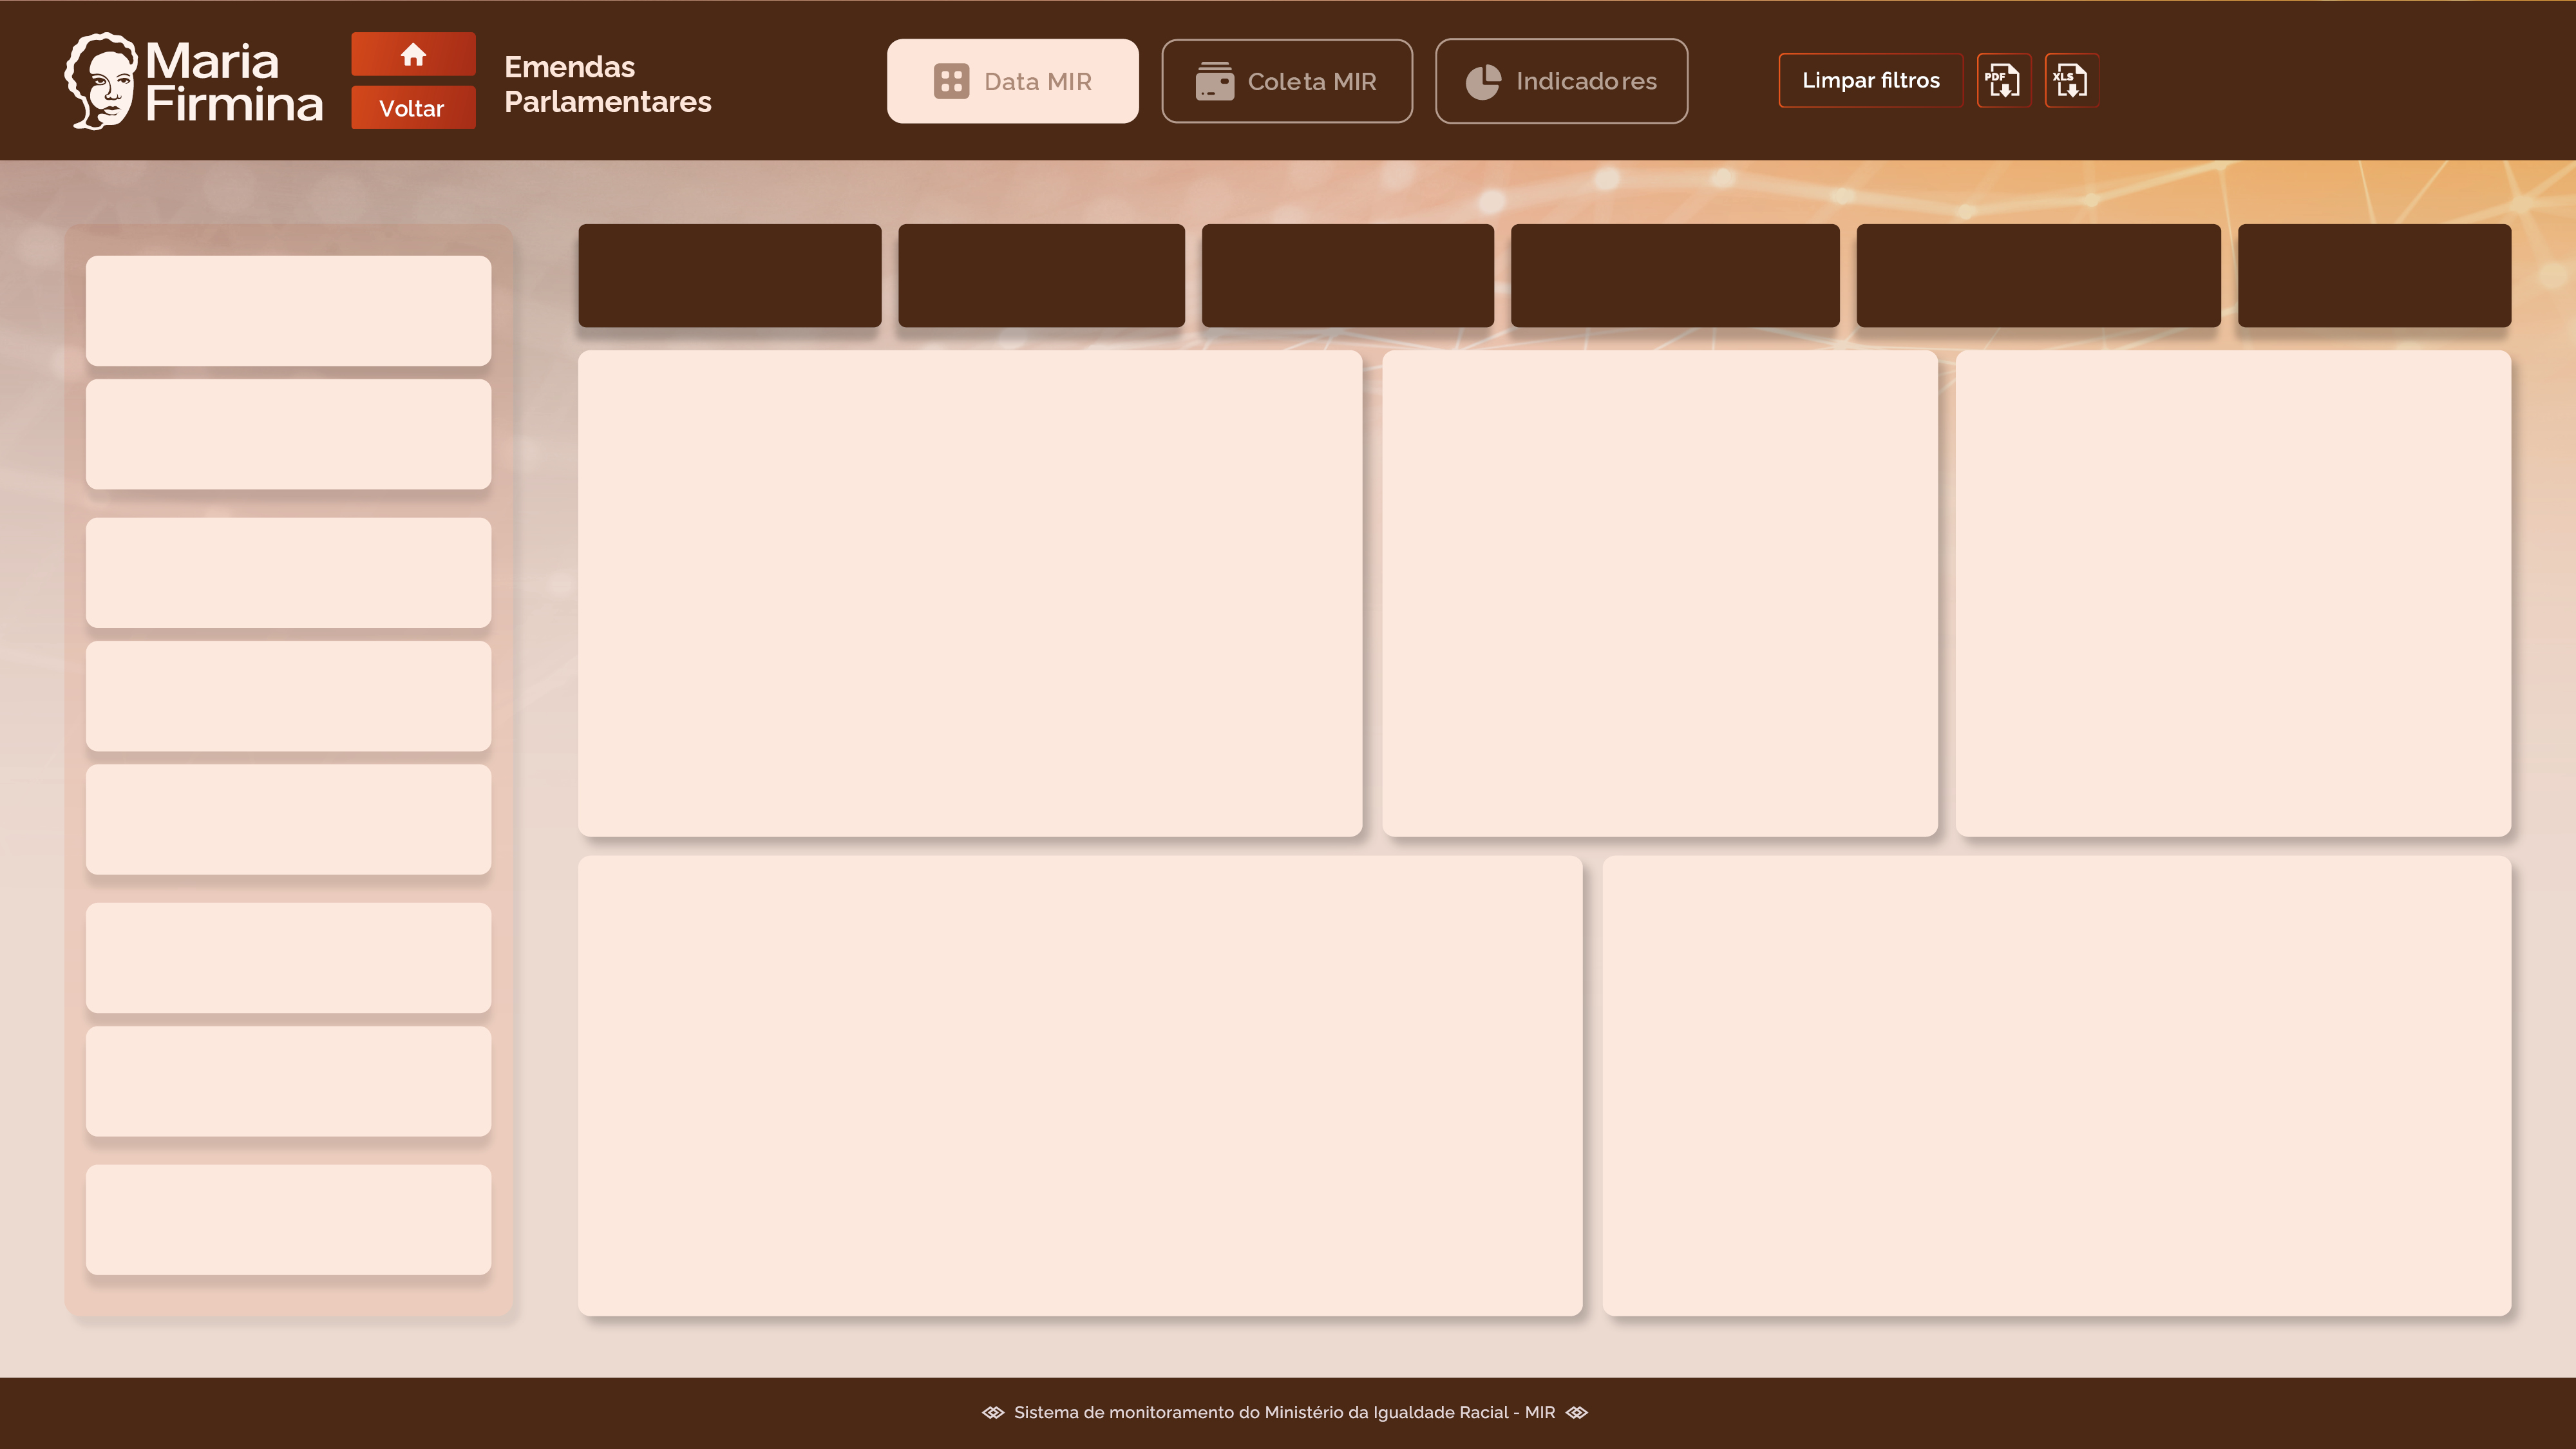

What the dashboard file says about the page in this screenshot:
{"tool":"powerbi","page":{"name":"Emendas Autores","canvas":[1920,1080],"ordinal":9},"visuals":[{"type":"slicer","fields":{"Values":["emendas_convenio (2).sit_convenio"]},"box":[67.8,482.2,423.3,73.3],"z":0},{"type":"slicer","fields":{"Values":["emendas_convenio (2).modalidade"]},"box":[67.8,390,423.3,74.4],"z":1000},{"type":"cardVisual","fields":{"Data":["_medidas.Qtd Convenios"]},"box":[51.1,170,193.3,68.9],"z":2000},{"type":"cardVisual","fields":{"Data":["Sum(emendas_convenio (2).restos_a_pagar_pagos)"]},"box":[1112.2,170,262.2,68.9],"z":3000},{"type":"slicer","fields":{"Values":["emendas_convenio (2).ne_ccor_favorecido_descricao"]},"box":[66.7,298.9,424.4,72.2],"z":5000},{"type":"tableEx","fields":{"Values":["emendas_convenio (2).nr_convenio","emendas_convenio (2).autor","emendas_convenio (2).partido","Sum(emendas_convenio (2).despesas_empenhadas)","emendas_convenio (2).modalidade","emendas_convenio (2).ne_ccor_favorecido_descricao","emendas_convenio (2).regiao_pt","emendas_convenio (2).dia_inic_vigenc_conv","emendas_convenio (2).natureza_despesa_descricao","emendas_convenio (2).sit_convenio","emendas_convenio (2).dia_fim_vigenc_conv","Sum(emendas_convenio (2).despesas_pagas)"]},"box":[664.3,281.4,1208.6,692.9],"z":6000},{"type":"cardVisual","fields":{"Data":["Sum(emendas_convenio (2).despesas_empenhadas)"]},"box":[262.2,170,270,68.9],"z":7000},{"type":"cardVisual","fields":{"Data":["Sum(emendas_convenio (2).despesas_pagas)"]},"box":[827.8,170,265.6,68.9],"z":8000},{"type":"cardVisual","fields":{"Data":["Sum(emendas_convenio (2).despesas_liquidadas)"]},"box":[550,170,265.6,68.9],"z":9000},{"type":"actionButton","box":[261.5,62,94.3,32.9],"z":11000},{"type":"actionButton","box":[261.7,22.8,92.2,33.3],"z":12000},{"type":"textbox","box":[1642.6,29.3,167.6,71.8],"z":13000},{"type":"actionButton","box":[1326.7,40.7,137.8,38.9],"z":14000},{"type":"image","box":[1820,42,53.3,37.8],"z":15000},{"type":"actionButton","box":[661.3,28.7,187.3,62.7],"z":16000},{"type":"actionButton","box":[866,28.7,187.3,62.7],"z":17000},{"type":"actionButton","box":[1069.3,30,187.3,62.7],"z":18000},{"type":"pageNavigator","box":[63.8,129.2,540,23.1],"z":19000},{"type":"pieChart","title":"Empenhado por situação do convênio","fields":{"Category":["emendas_convenio (2).sit_convenio"],"Y":["Sum(emendas_convenio (2).despesas_empenhadas)"]},"box":[48.3,628.3,593.3,346.7],"z":20000}]}

Visuals, with their boxes on the page's 1920x1080 design canvas (x1, y1, x2, y2). These are canvas units, not pixel positions in the 2576x1449 screenshot, which may show the page scaled, cropped or inside an application window:
slicer - emendas_convenio (2).sit_convenio: region(68, 482, 491, 556)
slicer - emendas_convenio (2).modalidade: region(68, 390, 491, 464)
cardVisual - _medidas.Qtd Convenios: region(51, 170, 244, 239)
cardVisual - Sum(emendas_convenio (2).restos_a_pagar_pagos): region(1112, 170, 1374, 239)
slicer - emendas_convenio (2).ne_ccor_favorecido_descricao: region(67, 299, 491, 371)
tableEx - emendas_convenio (2).nr_convenio x emendas_convenio (2).autor: region(664, 281, 1873, 974)
cardVisual - Sum(emendas_convenio (2).despesas_empenhadas): region(262, 170, 532, 239)
cardVisual - Sum(emendas_convenio (2).despesas_pagas): region(828, 170, 1093, 239)
cardVisual - Sum(emendas_convenio (2).despesas_liquidadas): region(550, 170, 816, 239)
actionButton: region(262, 62, 356, 95)
actionButton: region(262, 23, 354, 56)
textbox: region(1643, 29, 1810, 101)
actionButton: region(1327, 41, 1464, 80)
image: region(1820, 42, 1873, 80)
actionButton: region(661, 29, 849, 91)
actionButton: region(866, 29, 1053, 91)
actionButton: region(1069, 30, 1257, 93)
pageNavigator: region(64, 129, 604, 152)
"Empenhado por situação do convênio" pieChart: region(48, 628, 642, 975)
